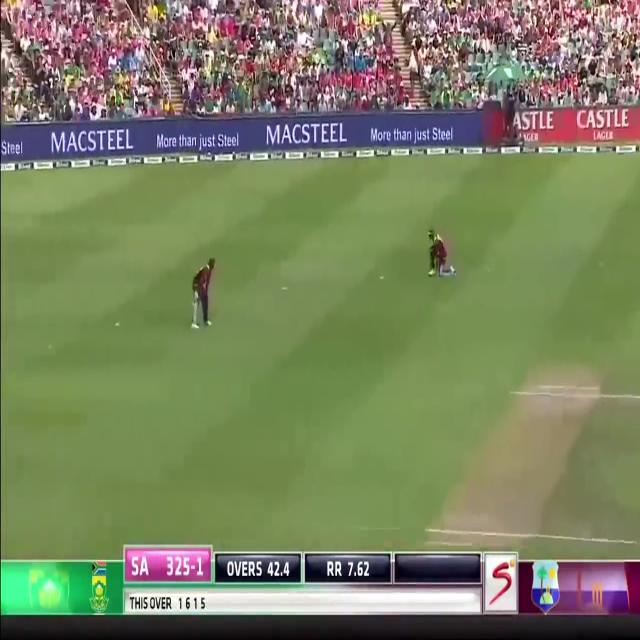Fielder: (190, 253, 220, 328), (424, 227, 453, 274)
